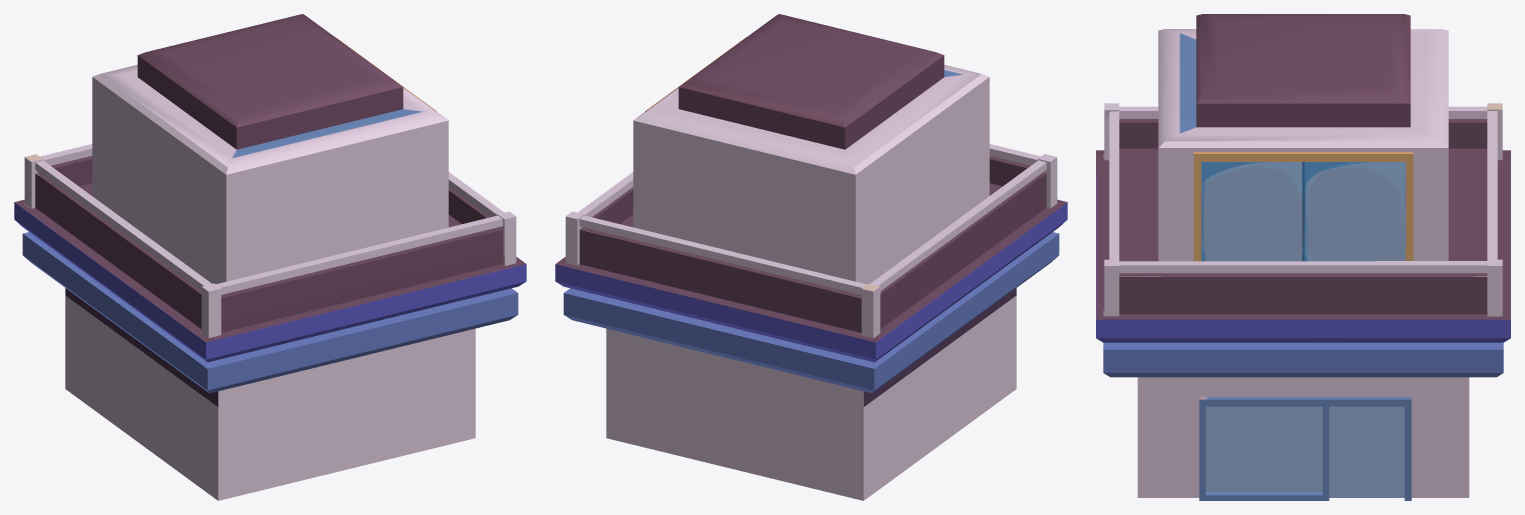
The model's file is SM_ARCH_House01.fbx.
3 views of the same model, side by side, from view 1: azimuth 30°, elevation 25°; view 2: azimuth 150°, elevation 25°; view 3: azimuth 270°, elevation 25° (orthographic). The views are drawn at different scales.
Visible parts, largest first — view 1: m_HouseV1_low; view 2: m_HouseV1_low; view 3: m_HouseV1_low.
Boxes of the visible parts, x1,y1,x2,y2 form: m_HouseV1_low: (14,14,526,500); m_HouseV1_low: (555,14,1067,500); m_HouseV1_low: (1096,14,1510,500).
Size of the model in its own units: 796 by 825 by 824.
Materials: 1 (1 with a texture image).
